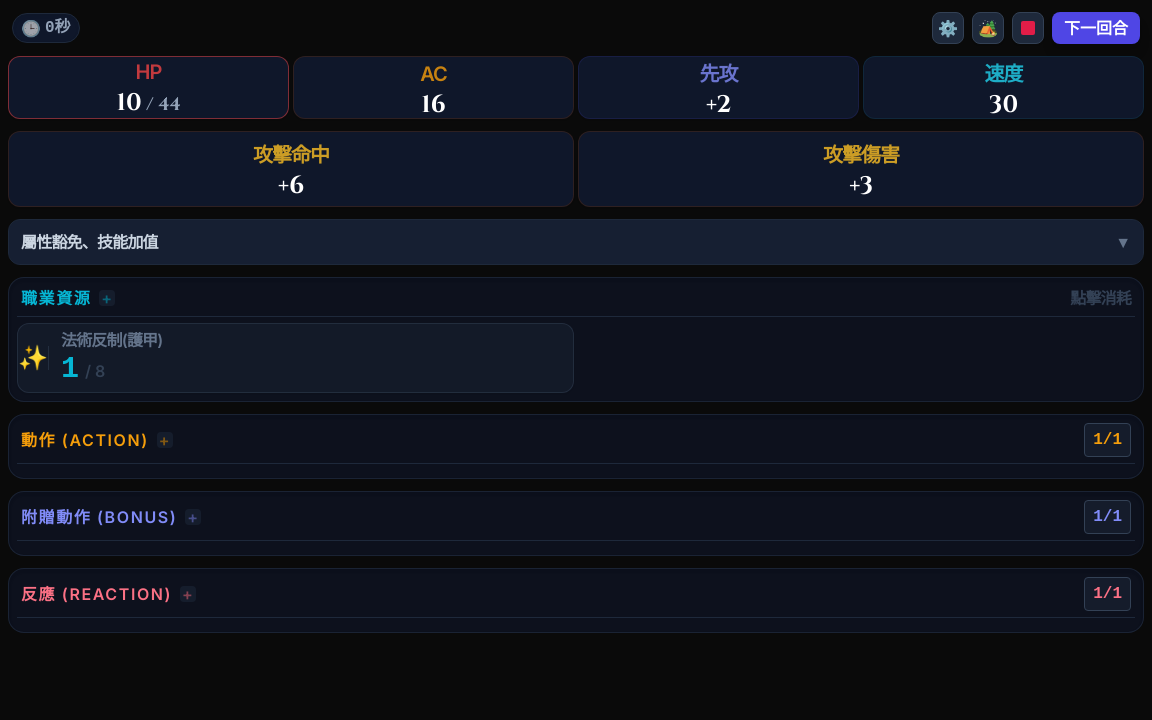
Test case: CombatView - 長休骰 › 長休後顯示擲骰結果彈窗
Click the button "🏕️". click: (988, 28)
box: [972,12,1004,44]
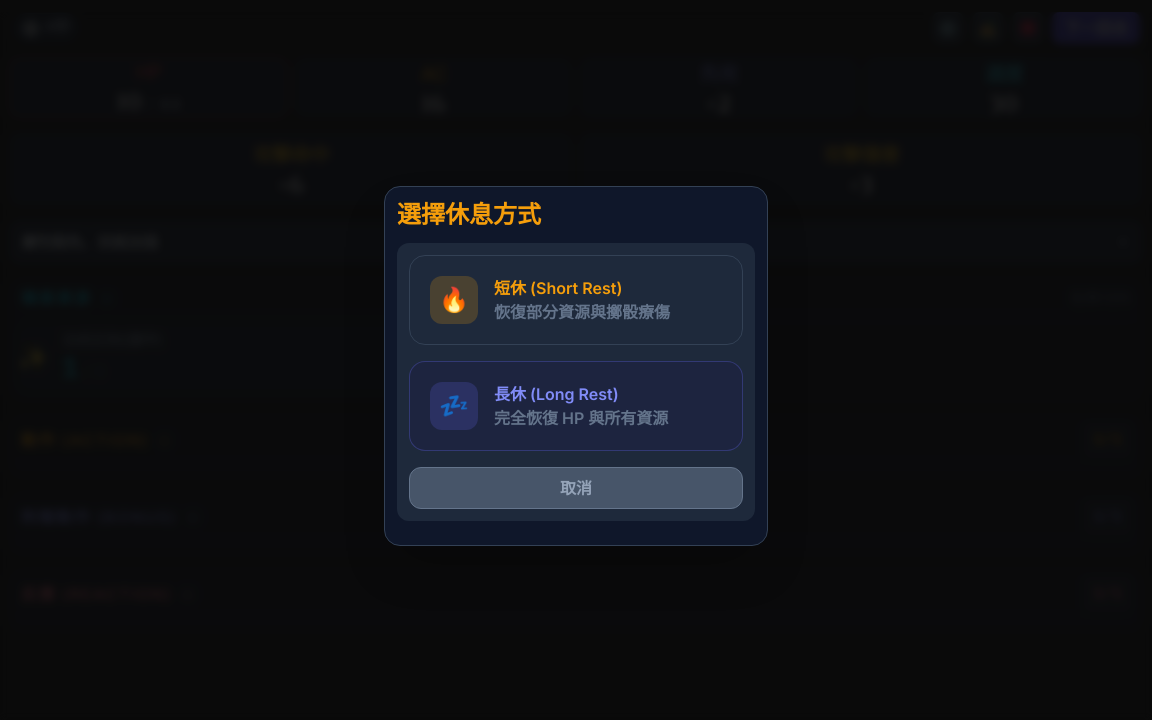
Click the text "長休 (Long Rest)". click: (556, 394)
box: [494,384,619,404]
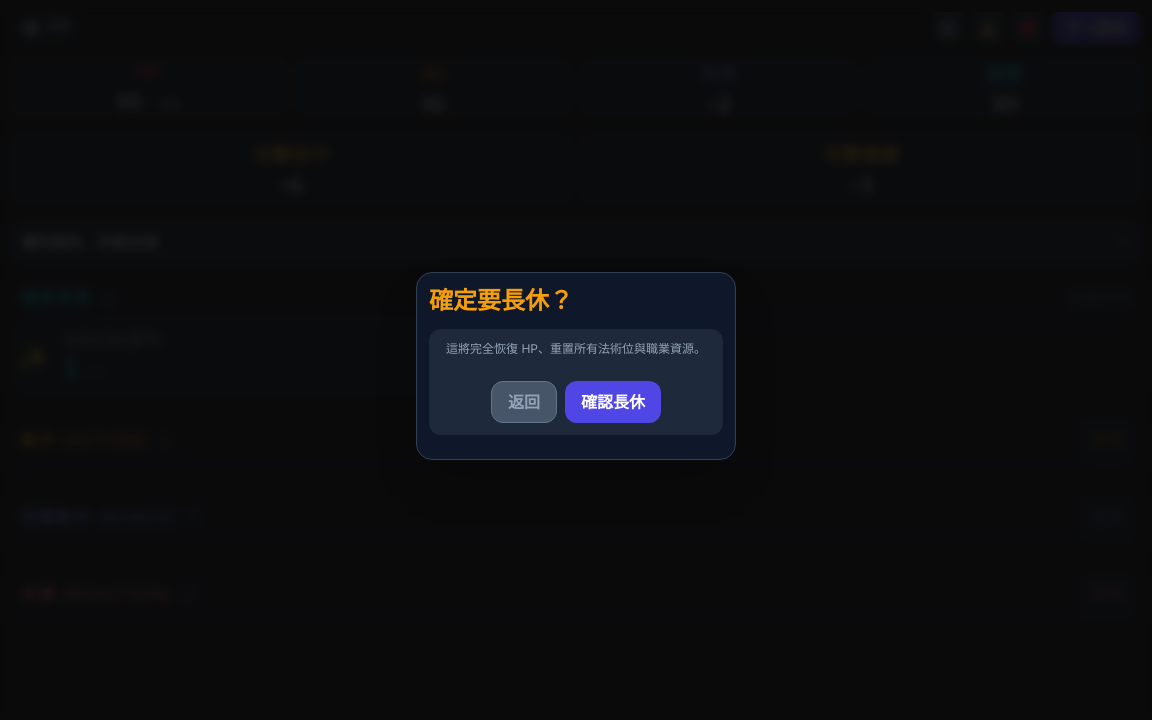
Click the button "確認長休". click: (613, 402)
box: [565,381,661,423]
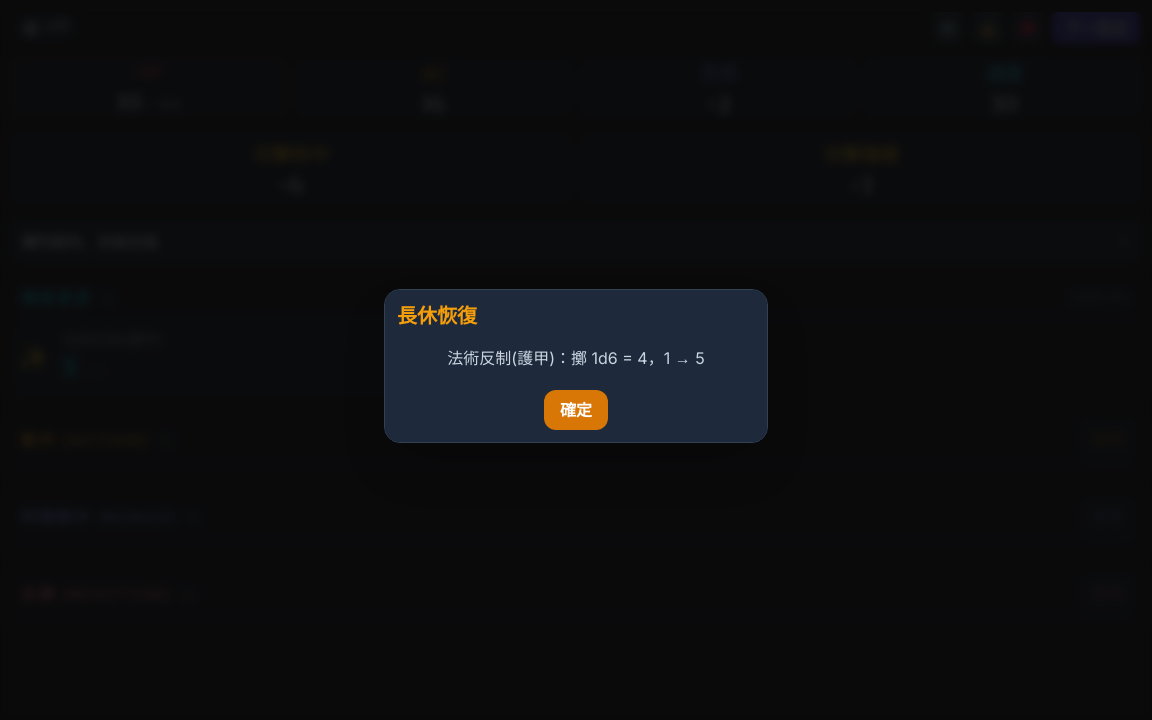
Now the text "法術反制(護甲)：擲 1d6 = 4，1 → 5" is shown, box [447,348,705,368]
